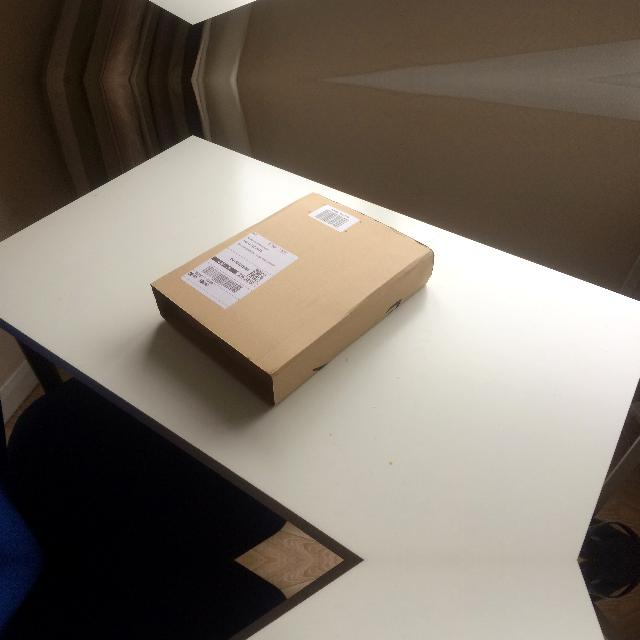Cardboard: (144, 188, 440, 412)
